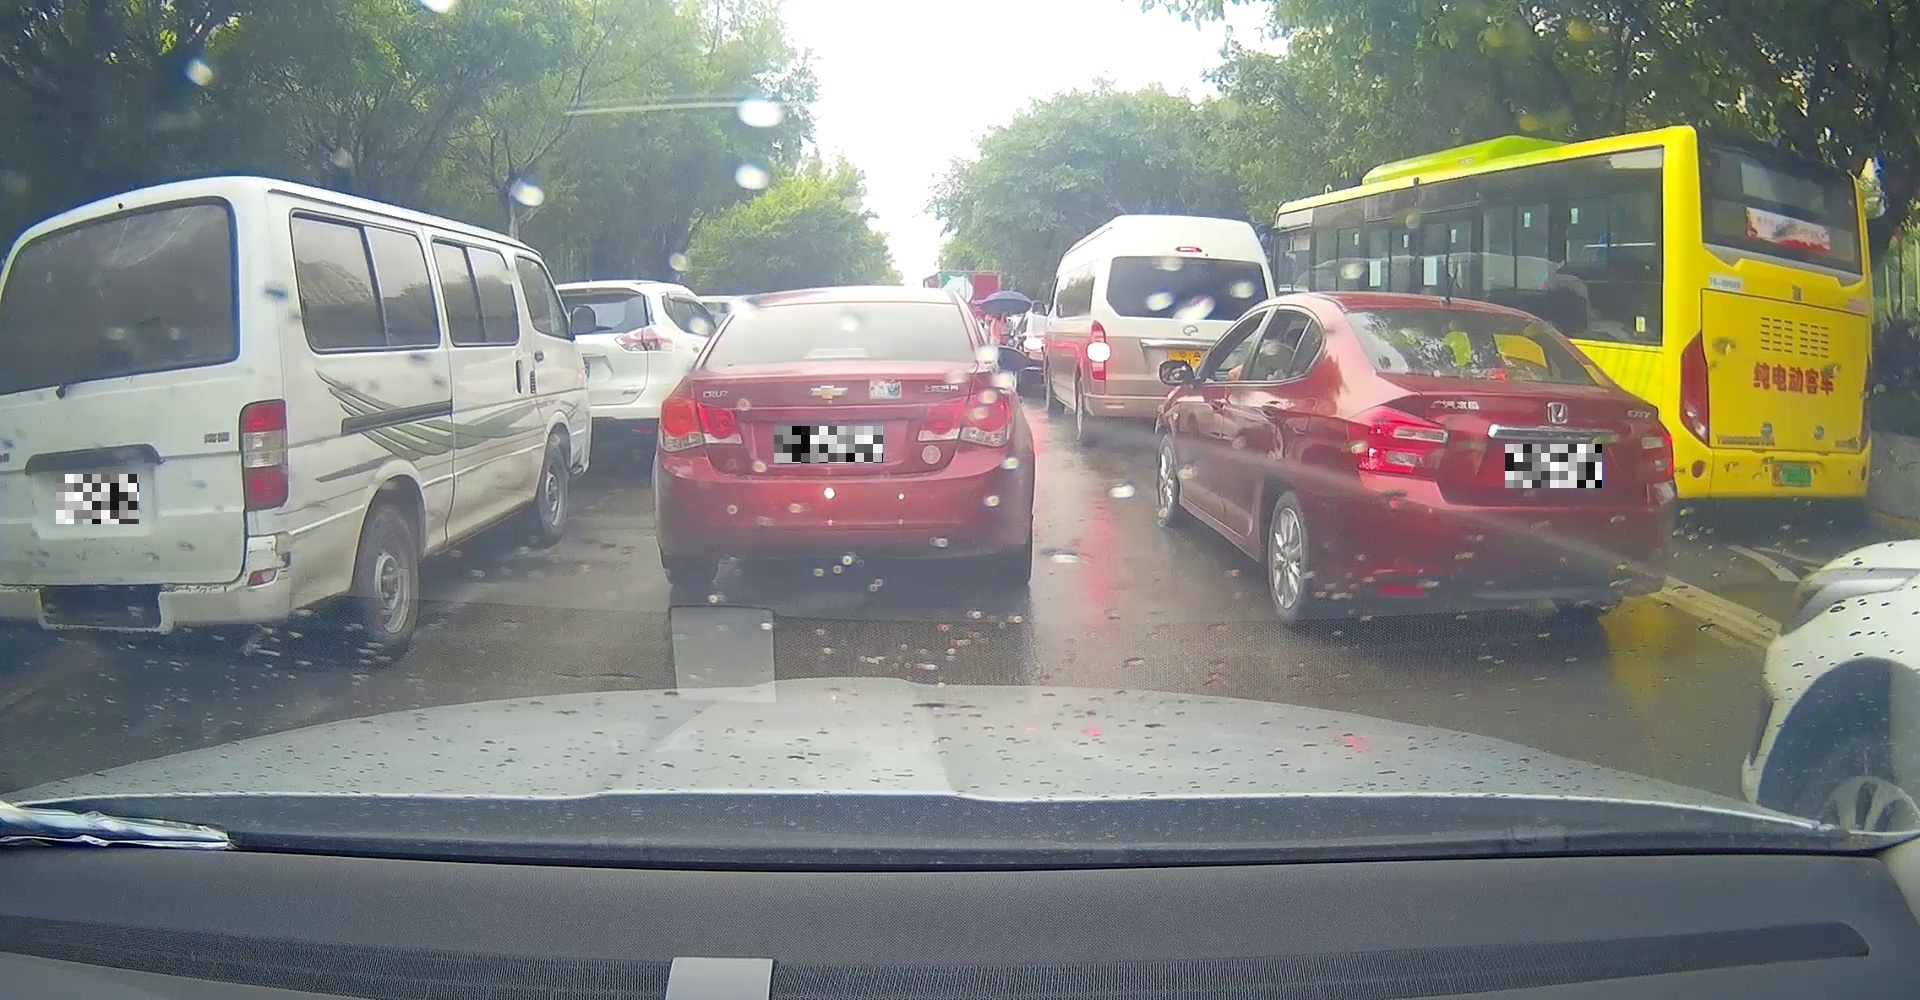L_light: (1345, 407, 1449, 475), (657, 396, 745, 453), (1679, 329, 1710, 448)
R_light: (917, 388, 1013, 447), (1641, 421, 1674, 482), (1858, 354, 1873, 451)
T_light: (1768, 245, 1821, 263), (803, 346, 870, 360), (1477, 368, 1525, 379)
day-brake: (1323, 289, 1677, 624)
day-no: (651, 284, 1037, 591), (1677, 124, 1876, 508)
plate_1: (56, 475, 138, 524)
plate_2: (775, 426, 883, 463)
plate_3: (1505, 444, 1603, 489)
